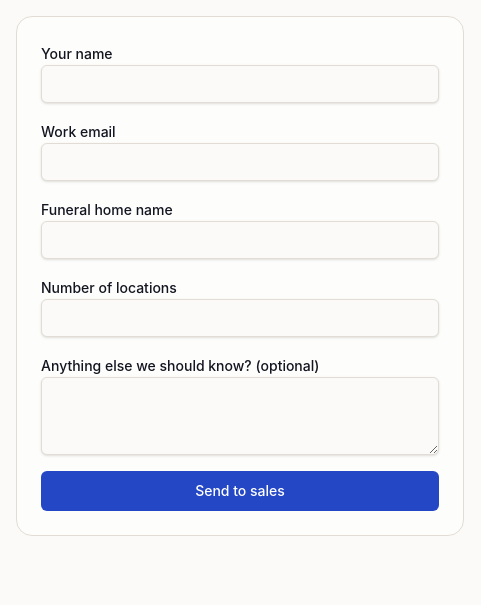
Test: ContactSalesForm › shows an error message if the submission fails
The width and height of the screenshot is (481, 605).
Type "Jane Doe" into the field labelled "Your name" at (240, 84), box [41, 65, 439, 103]
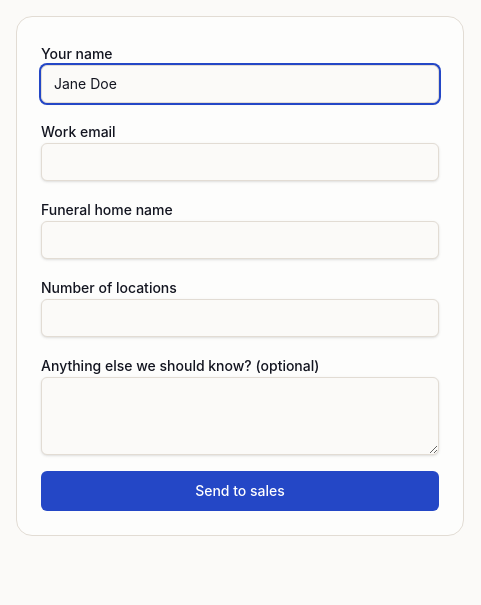
Type "jane@example.com" into the field labelled "Work email" at (240, 162), box [41, 143, 439, 181]
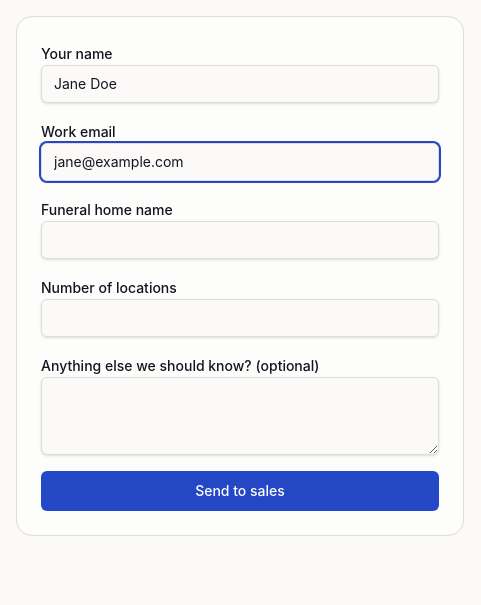
Type "Doe Family Funeral Home" into the field labelled "Funeral home name" at (240, 240), box [41, 221, 439, 259]
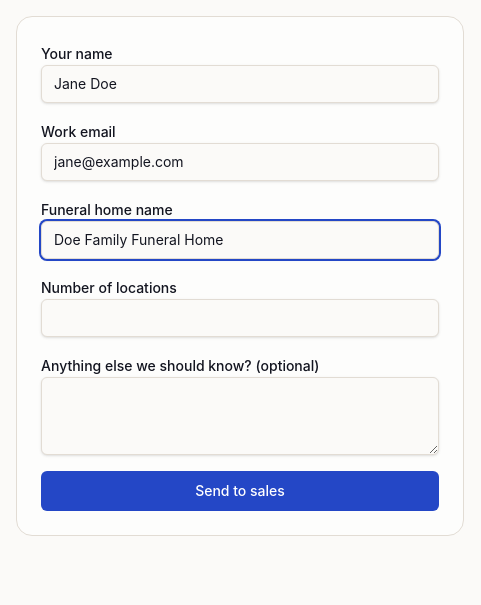
Type "5" into the number field labelled "Number of locations" at (240, 318), box [41, 299, 439, 337]
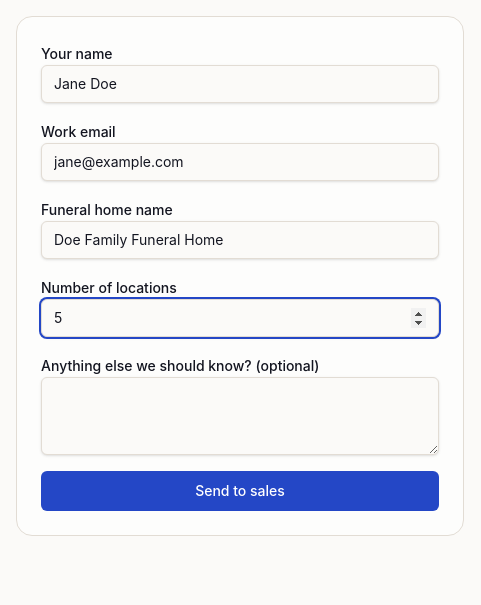
Click the button "Send to sales" at (240, 491), box [41, 471, 439, 511]
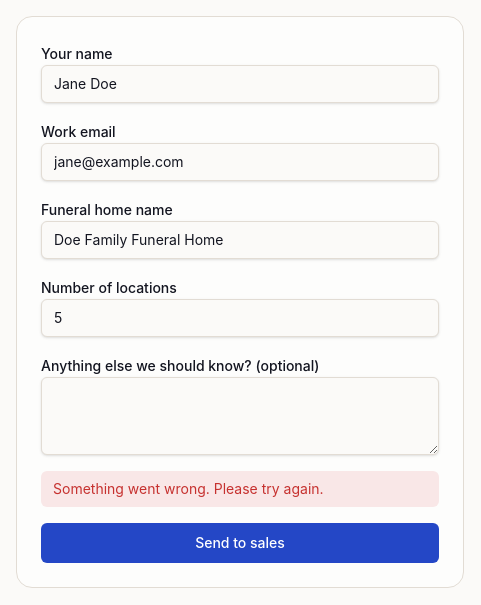
Check: the text "Something went wrong. Please try again." is shown, box [41, 471, 439, 507]
